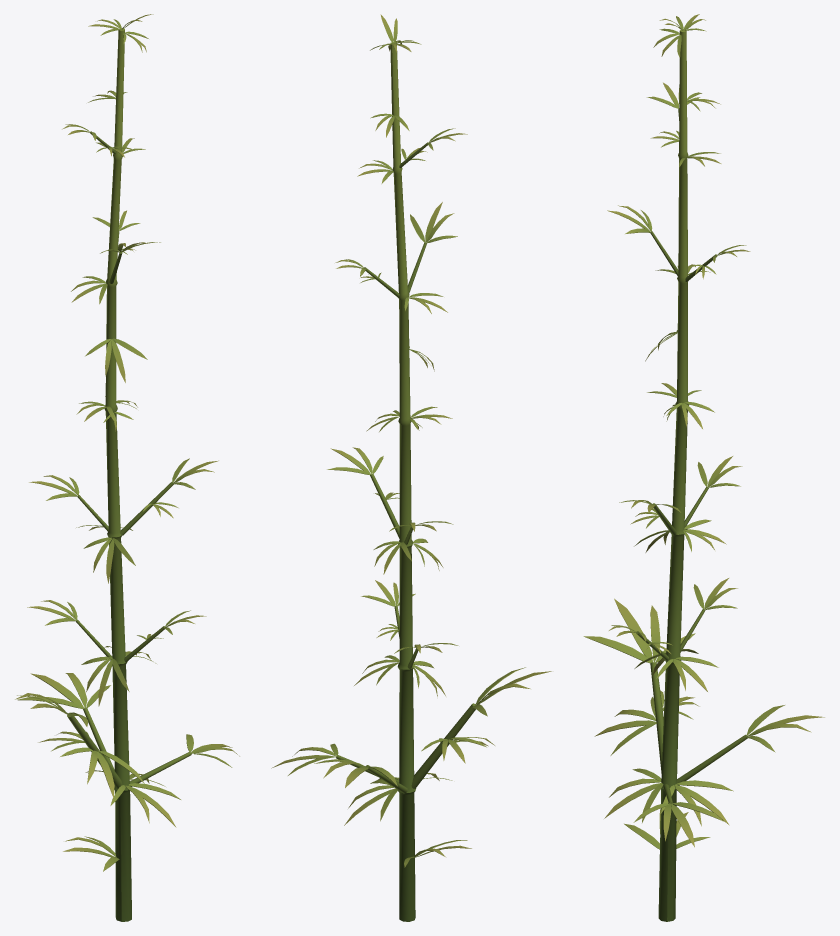
File: Bamboo_02.fbx
The picture shows the model from 3 angles, left to right: view 1: azimuth 30°, elevation 25°; view 2: azimuth 150°, elevation 25°; view 3: azimuth 270°, elevation 25°; orthographic projection.
Parts seen in each view (by area): view 1: Bamboo_02_LOD0; view 2: Bamboo_02_LOD0; view 3: Bamboo_02_LOD0.
Boxes of the visible parts, x1,y1,x2,y2 form: Bamboo_02_LOD0: (15,14,239,921); Bamboo_02_LOD0: (271,14,551,921); Bamboo_02_LOD0: (583,14,824,921).
Size of what is drawn, in the model's own units: 0.9317 by 3.28 by 0.7966.
